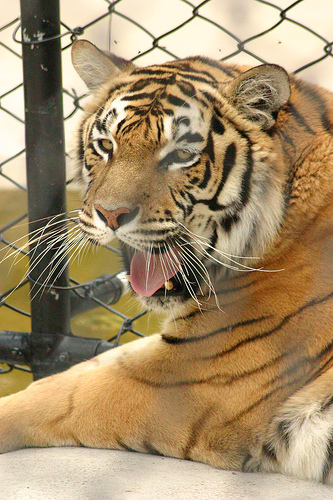Tigre: (45, 31, 326, 430)
